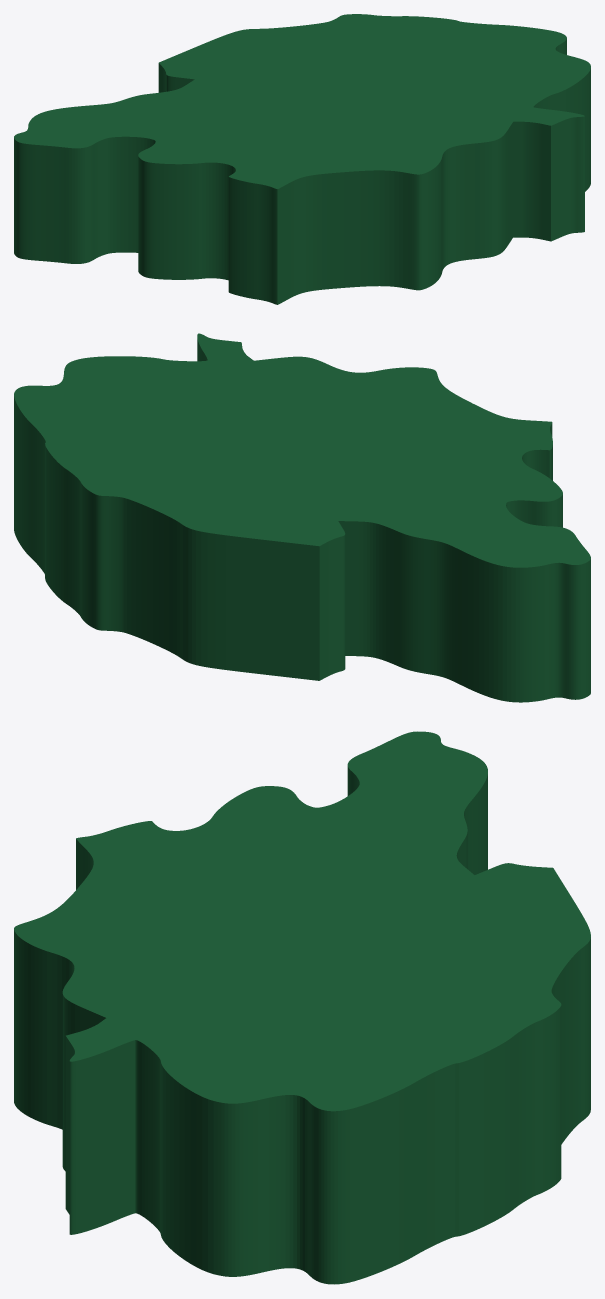
File: Asia_01.obj
3 views of the same model, one above another, from view 1: azimuth 30°, elevation 25°; view 2: azimuth 150°, elevation 25°; view 3: azimuth 270°, elevation 25° (orthographic). The views are drawn at different scales.
Visible parts, largest first — view 1: Asia_01_path4252; view 2: Asia_01_path4252; view 3: Asia_01_path4252.
Part boxes in pixels (<box>): Asia_01_path4252: <box>14,14,590,304</box>; Asia_01_path4252: <box>14,333,590,702</box>; Asia_01_path4252: <box>14,731,590,1284</box>.
Size of the model in its own units: 0.47 by 0.1 by 0.3018.
